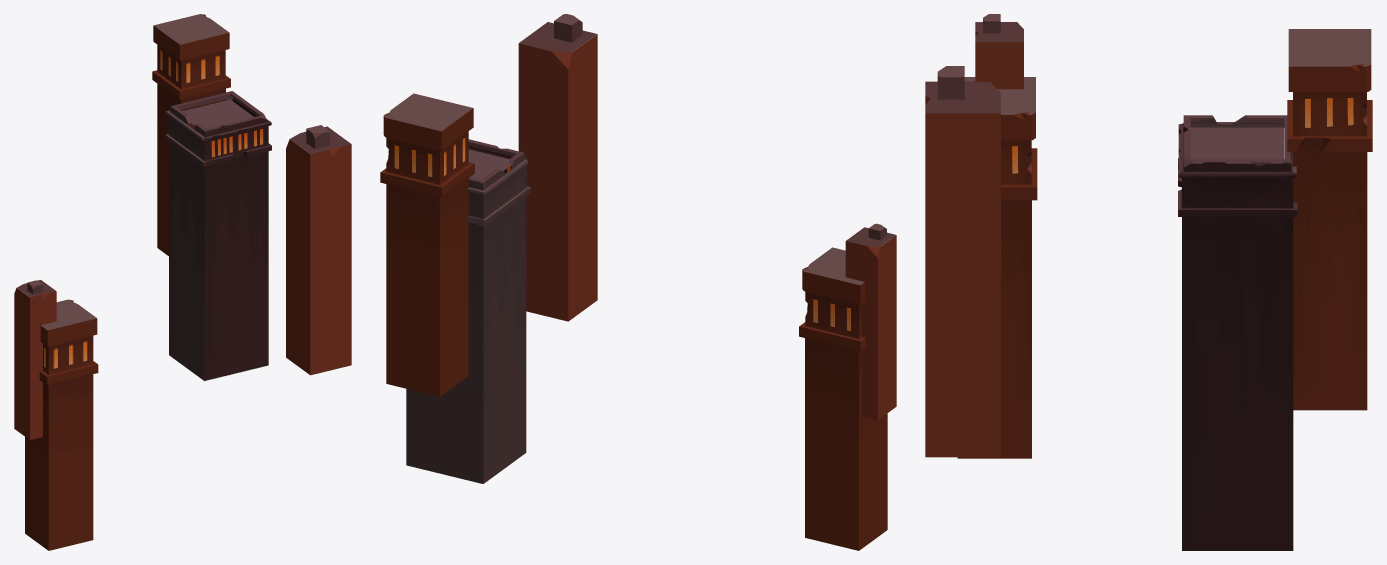
Rendered from Main_1002_obj_04.fbx.
3 renders of one model, left to right at view 1: azimuth 30°, elevation 25°; view 2: azimuth 150°, elevation 25°; view 3: azimuth 270°, elevation 25°, orthographic. The views are drawn at different scales.
Parts seen in each view (by area): view 1: Cube.001, Cube.046, Cube.045, Cube.003, Cube.005; view 2: Cube.001, Cube.003, Cube.046, Cube.045, Cube.005; view 3: Cube.001, Cube.003, Cube.046, Cube.045, Cube.005.
Part boxes in pixels (left/top/right/bottom): Cube.001: left=165, top=91, right=271, bottom=381; Cube.046: left=286, top=125, right=351, bottom=375; Cube.045: left=25, top=299, right=98, bottom=550; Cube.003: left=152, top=14, right=230, bottom=255; Cube.005: left=14, top=280, right=56, bottom=439; Cube.001: left=406, top=139, right=530, bottom=483; Cube.003: left=380, top=93, right=474, bottom=396; Cube.046: left=518, top=14, right=597, bottom=321; Cube.045: left=799, top=247, right=887, bottom=550; Cube.005: left=845, top=223, right=896, bottom=420; Cube.001: left=1178, top=115, right=1297, bottom=550; Cube.003: left=1287, top=29, right=1372, bottom=410; Cube.046: left=925, top=66, right=1000, bottom=457; Cube.045: left=957, top=77, right=1037, bottom=458; Cube.005: left=975, top=14, right=1023, bottom=89.
Size of the model in its own units: 251 by 289 by 203.
